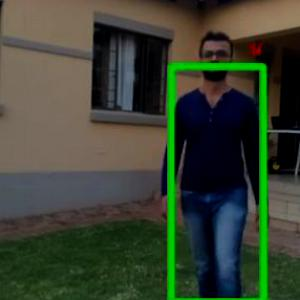follow: (160, 32, 270, 299)
